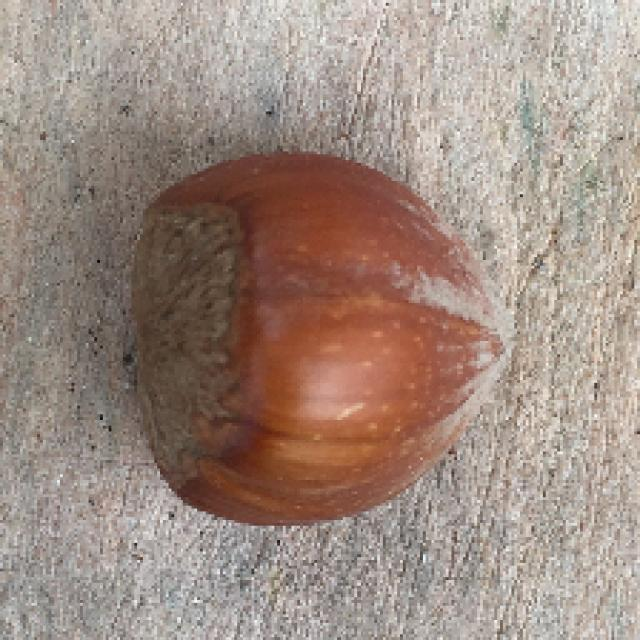qualityHazelnut: (119, 141, 511, 544)
